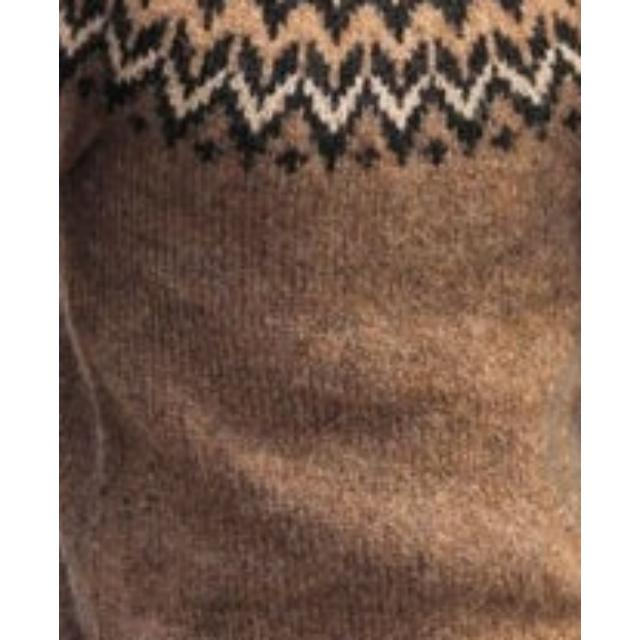wool: (59, 0, 581, 640)
